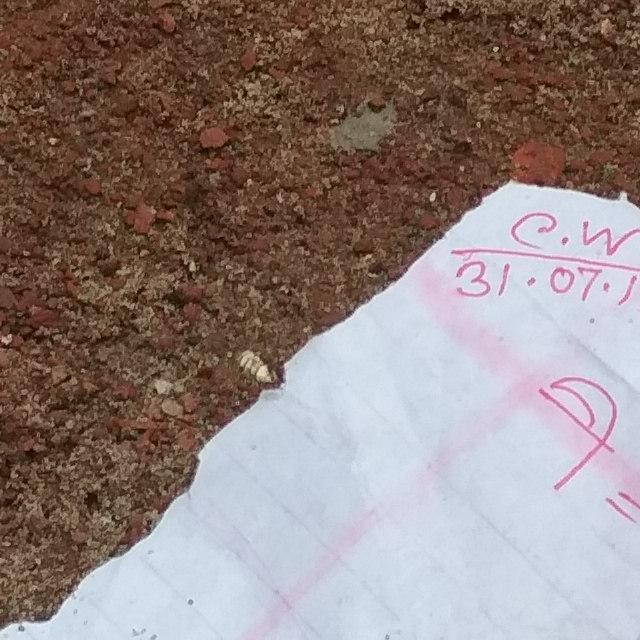paper: (0, 142, 640, 640)
